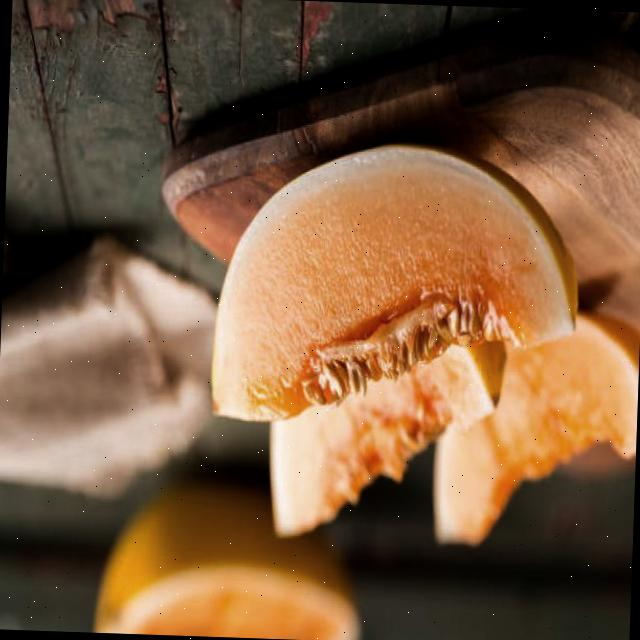Hami Melon: (210, 134, 582, 434)
